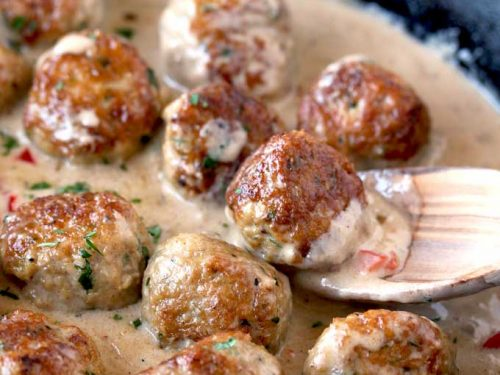meatballs: (7, 3, 437, 372)
